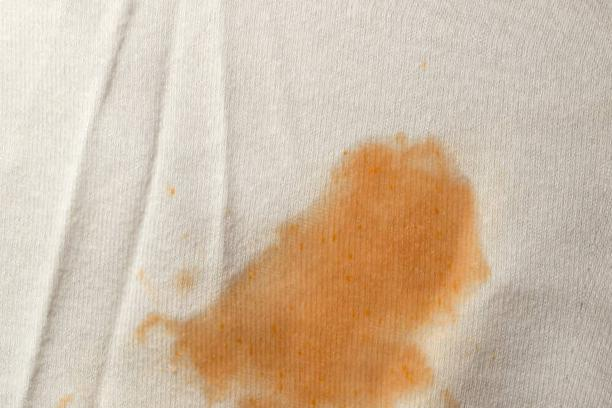stain: (132, 126, 499, 408)
